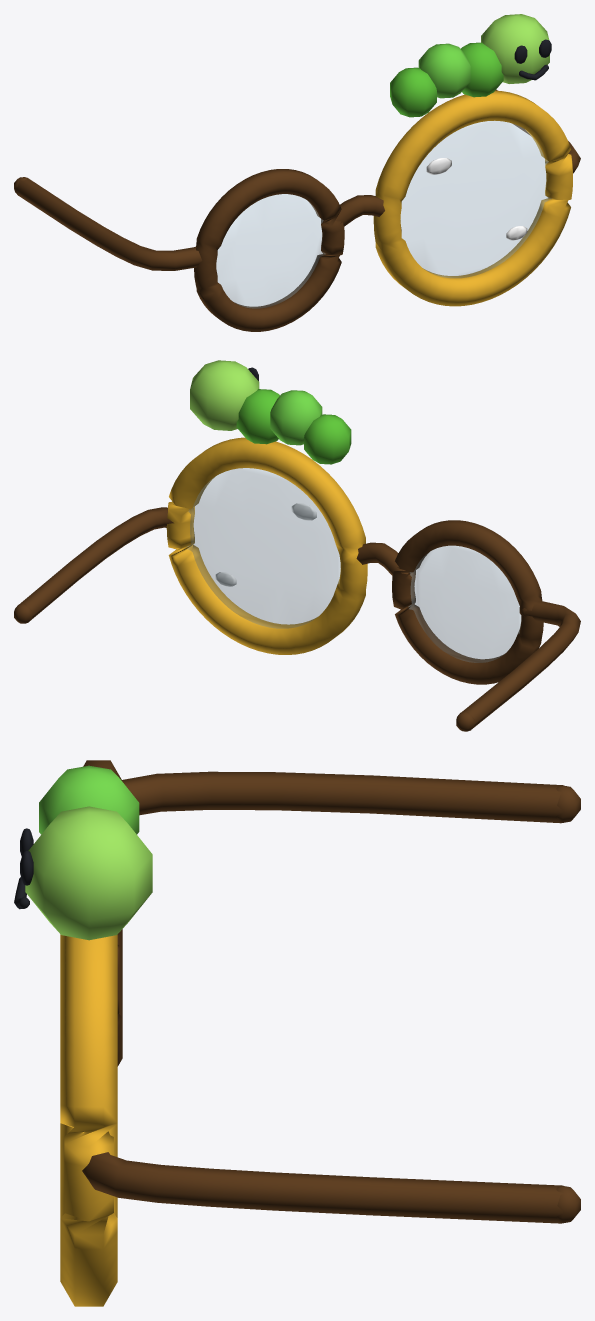
Rendered from gl_bxbook.glb.
The picture shows the model from 3 angles, top to bottom: view 1: azimuth 30°, elevation 25°; view 2: azimuth 150°, elevation 25°; view 3: azimuth 270°, elevation 25°; orthographic projection. The views are drawn at different scales.
Visible parts, largest first — view 1: bxbook_gl; view 2: bxbook_gl; view 3: bxbook_gl.
Part boxes in pixels (x1,y1,x2,y2): bxbook_gl: (14, 14, 580, 331); bxbook_gl: (14, 360, 580, 731); bxbook_gl: (14, 760, 580, 1306).
Size of the model in its own units: 2.07 by 1.18 by 1.19.
